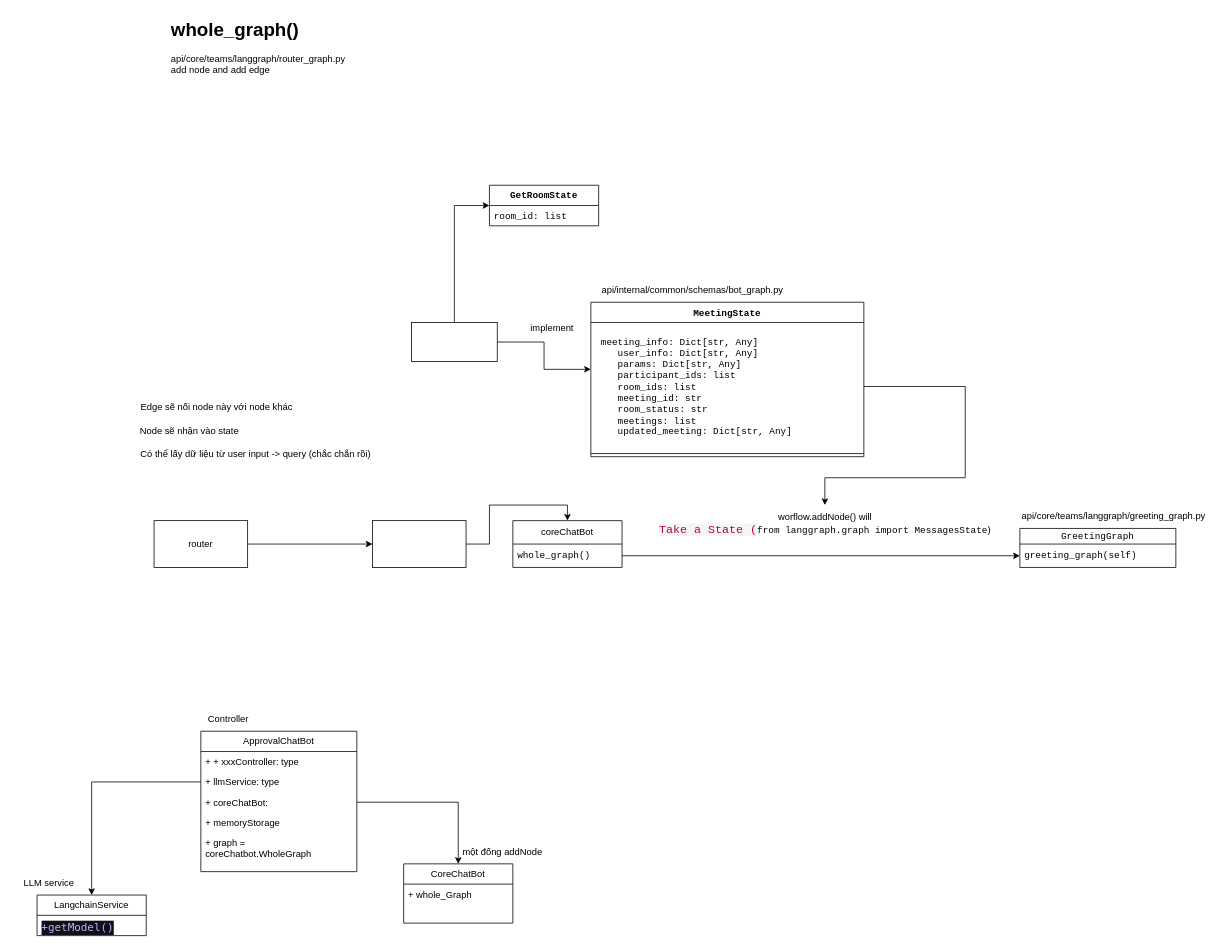
The diagram is 1228 pixels wide and 951 high, and some of its shapes have lost their labels. Each missing label, with the centre of its shape:
"coreTeam" goes at (x=419, y=543).
"MessagesState" goes at (x=454, y=342).
